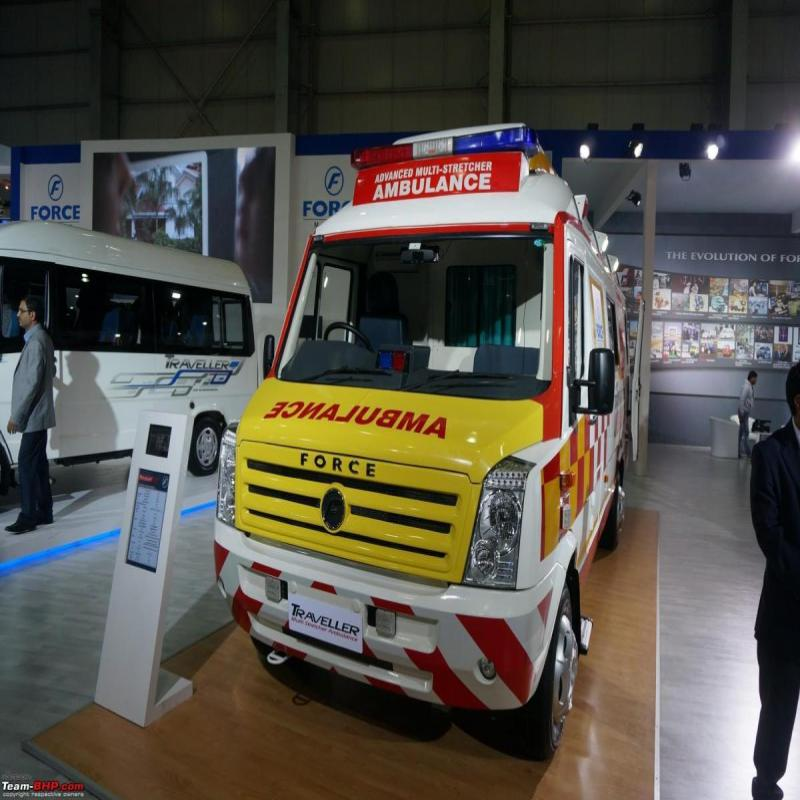AmbulanceSiren: (350, 121, 542, 172)
ambulance: (199, 107, 647, 751)
